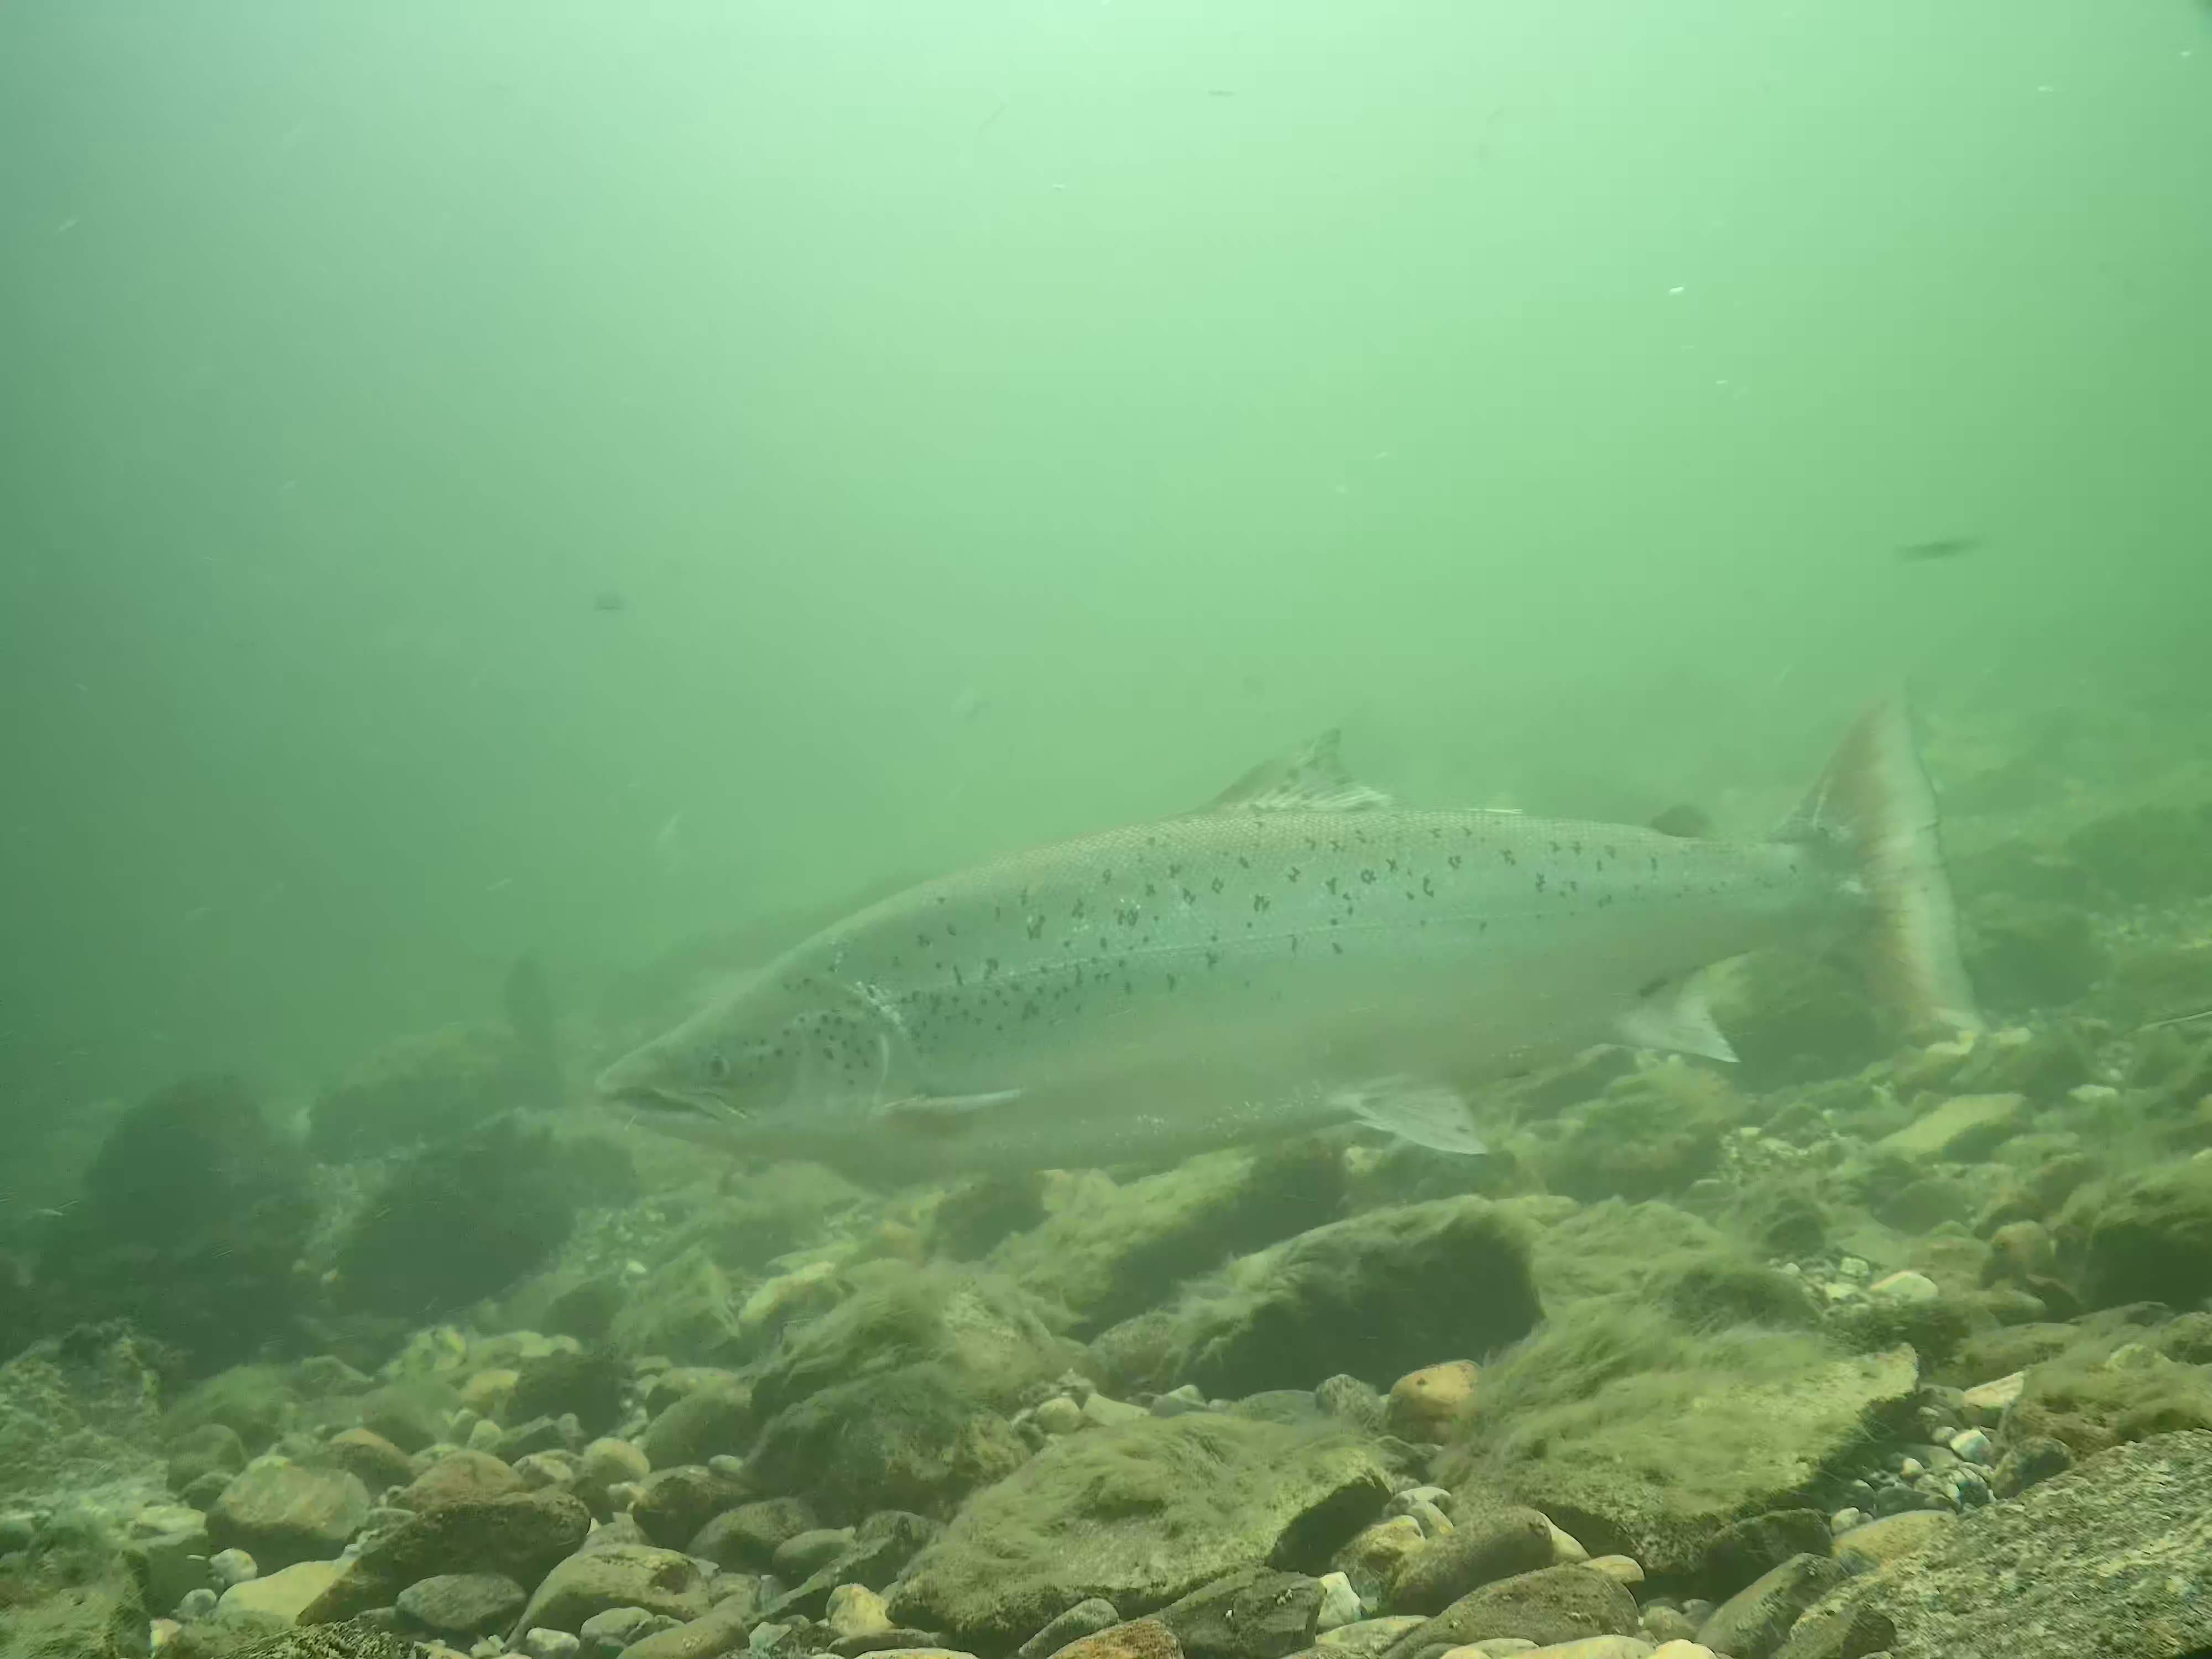salmon: (589, 680, 1993, 1183)
